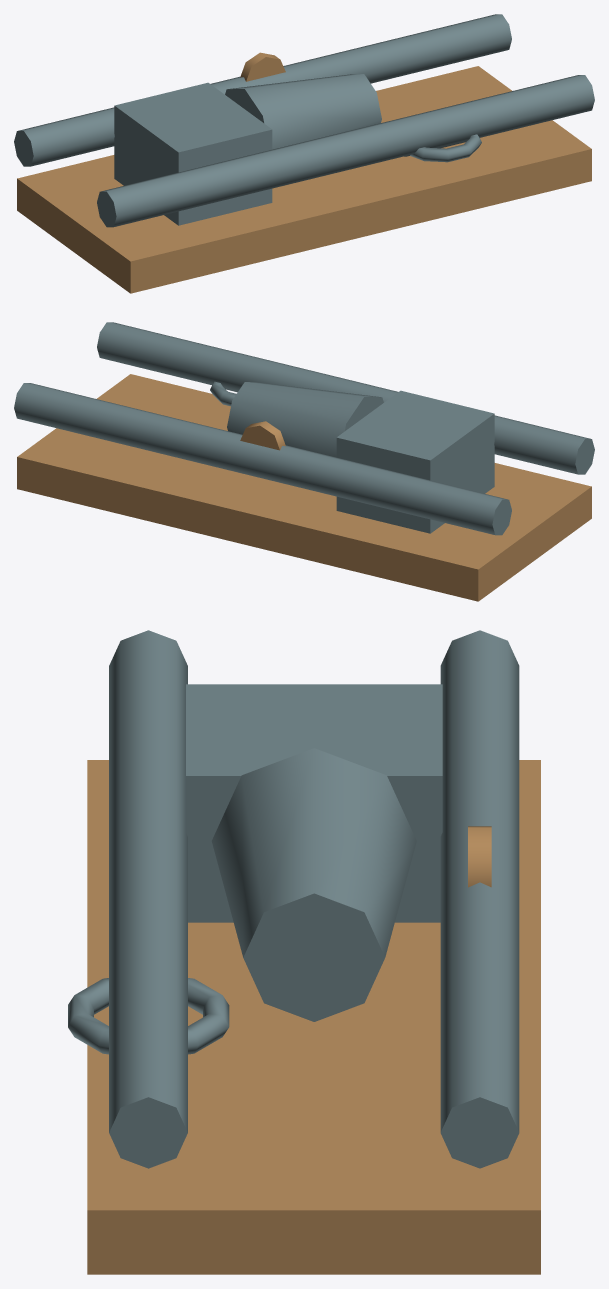
Rendered from irrigation-fertilizer-injector.source.glb.
3 views of the same model, one above another, from view 1: azimuth 30°, elevation 25°; view 2: azimuth 150°, elevation 25°; view 3: azimuth 270°, elevation 25° (orthographic). The views are drawn at different scales.
Parts seen in each view (by area): view 1: irrigation-fertilizer-injector-mounting-base-mesh, irrigation-fertilizer-injector-main-pipe-0.42-mesh, irrigation-fertilizer-injector-pump-box-mesh, irrigation-fertilizer-injector-main-pipe--0.42-mesh, irrigation-fertilizer-injector-venturi-body-mesh, irrigation-fertilizer-injector-valve-wheel-mesh, irrigation-fertilizer-injector-pressure-gauge-mesh; view 2: irrigation-fertilizer-injector-mounting-base-mesh, irrigation-fertilizer-injector-main-pipe--0.42-mesh, irrigation-fertilizer-injector-pump-box-mesh, irrigation-fertilizer-injector-main-pipe-0.42-mesh, irrigation-fertilizer-injector-venturi-body-mesh, irrigation-fertilizer-injector-pressure-gauge-mesh; view 3: irrigation-fertilizer-injector-mounting-base-mesh, irrigation-fertilizer-injector-main-pipe-0.42-mesh, irrigation-fertilizer-injector-venturi-body-mesh, irrigation-fertilizer-injector-main-pipe--0.42-mesh, irrigation-fertilizer-injector-pump-box-mesh, irrigation-fertilizer-injector-valve-wheel-mesh, irrigation-fertilizer-injector-pressure-gauge-mesh.
Part boxes in pixels (bbox=[...]): irrigation-fertilizer-injector-mounting-base-mesh: bbox=[17, 66, 591, 293]; irrigation-fertilizer-injector-main-pipe-0.42-mesh: bbox=[97, 75, 594, 227]; irrigation-fertilizer-injector-pump-box-mesh: bbox=[114, 82, 272, 225]; irrigation-fertilizer-injector-main-pipe--0.42-mesh: bbox=[14, 14, 511, 166]; irrigation-fertilizer-injector-venturi-body-mesh: bbox=[225, 74, 381, 149]; irrigation-fertilizer-injector-valve-wheel-mesh: bbox=[410, 134, 481, 162]; irrigation-fertilizer-injector-pressure-gauge-mesh: bbox=[240, 52, 285, 81]; irrigation-fertilizer-injector-mounting-base-mesh: bbox=[17, 374, 591, 601]; irrigation-fertilizer-injector-main-pipe--0.42-mesh: bbox=[14, 383, 511, 535]; irrigation-fertilizer-injector-pump-box-mesh: bbox=[336, 390, 494, 533]; irrigation-fertilizer-injector-main-pipe-0.42-mesh: bbox=[97, 322, 594, 474]; irrigation-fertilizer-injector-venturi-body-mesh: bbox=[227, 382, 383, 457]; irrigation-fertilizer-injector-pressure-gauge-mesh: bbox=[240, 421, 285, 450]; irrigation-fertilizer-injector-mounting-base-mesh: bbox=[87, 760, 540, 1274]; irrigation-fertilizer-injector-main-pipe-0.42-mesh: bbox=[109, 630, 187, 1168]; irrigation-fertilizer-injector-venturi-body-mesh: bbox=[211, 748, 416, 1021]; irrigation-fertilizer-injector-main-pipe--0.42-mesh: bbox=[440, 630, 519, 1168]; irrigation-fertilizer-injector-pump-box-mesh: bbox=[186, 684, 442, 922]; irrigation-fertilizer-injector-valve-wheel-mesh: bbox=[68, 978, 229, 1054]; irrigation-fertilizer-injector-pressure-gauge-mesh: bbox=[468, 826, 491, 887].
Size of the model in its own units: 2.8 by 0.68 by 1.2.
